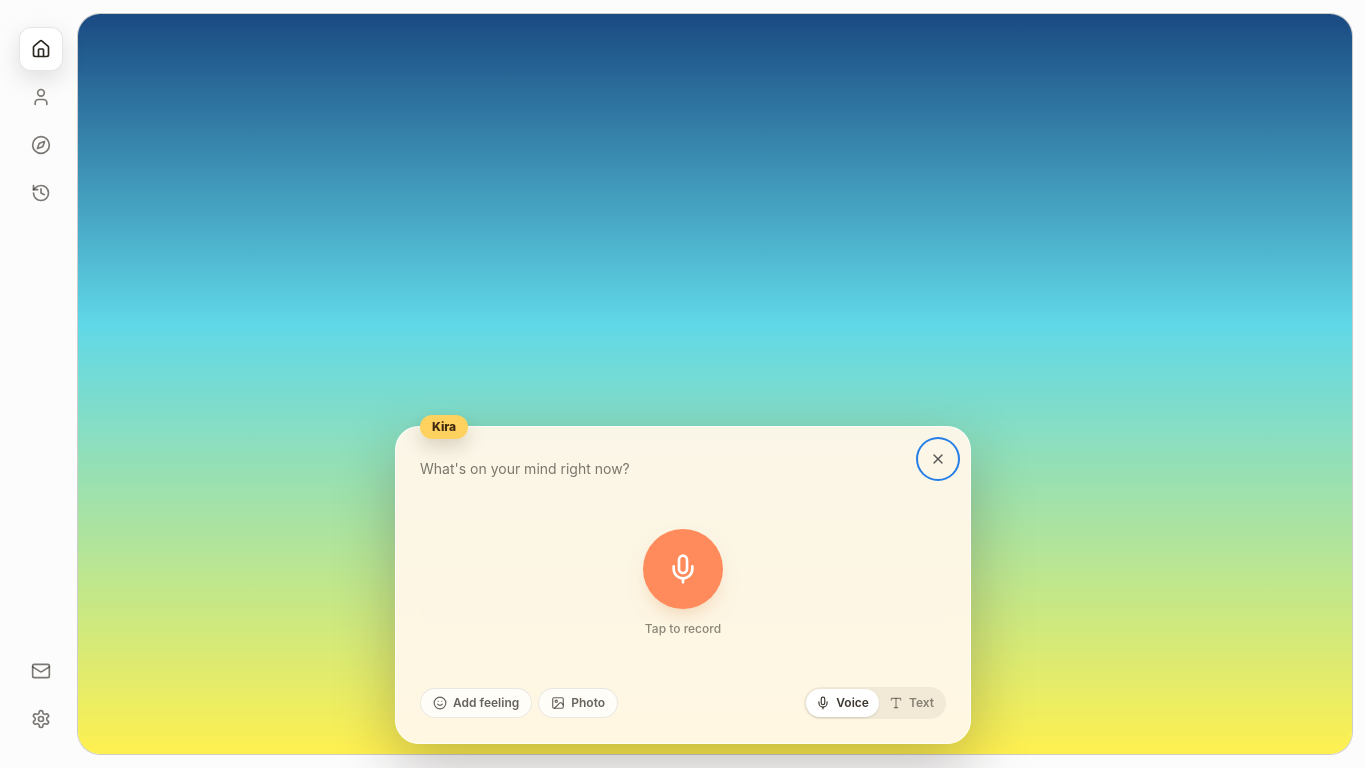
EngineHost › registers React capture overlays with the engine overlay controller and unregisters them
Expected: the element named "Capture mode" is shown, [804,687,946,719]
Click the tab with aria-label "Switch to Text mode" at (911, 703), box [879,689,944,717]
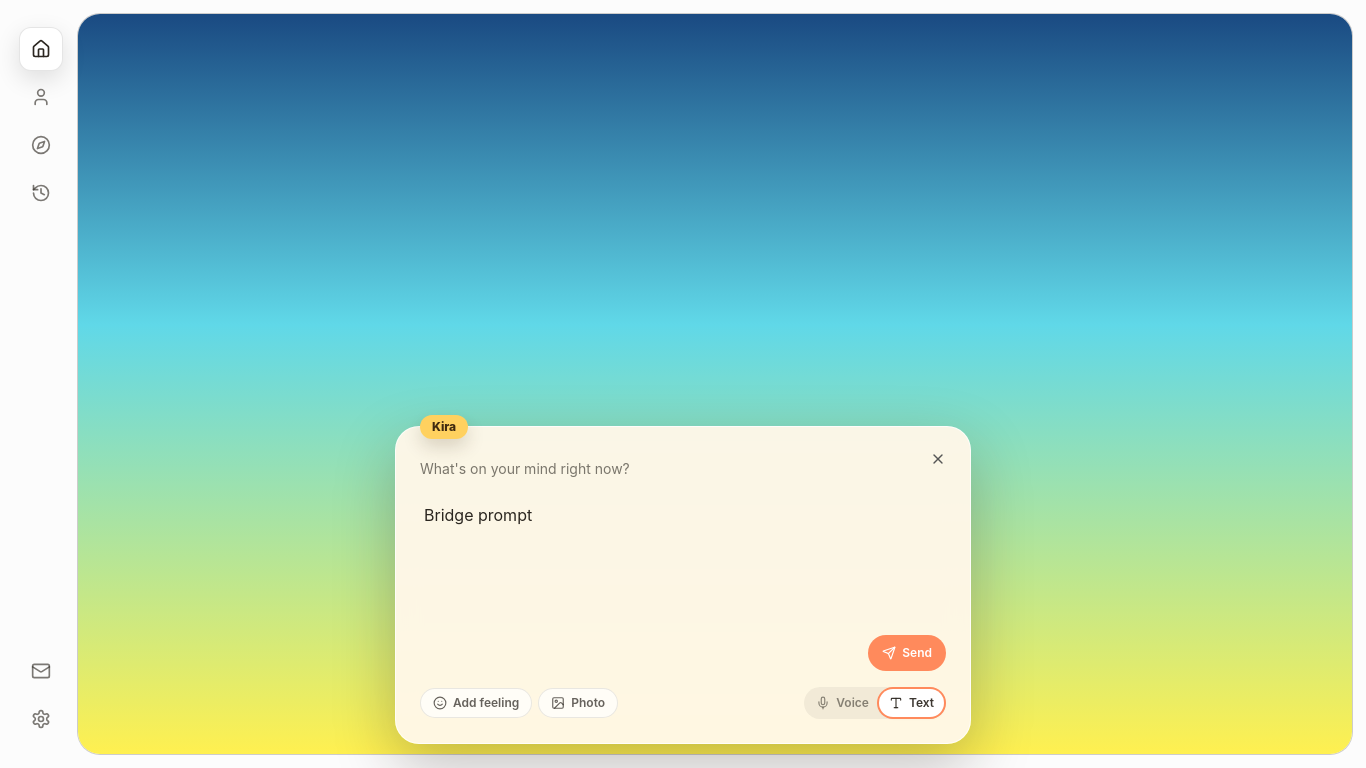
Expected: the text box showing "Bridge prompt" is shown, [420,495,946,623]
